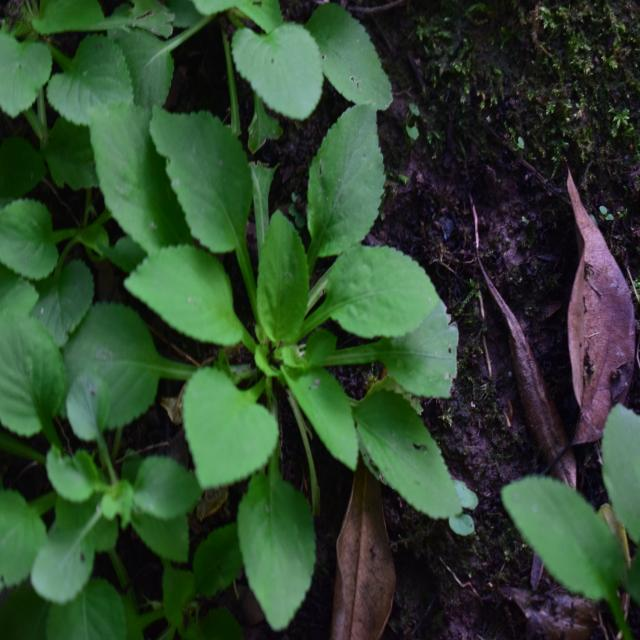Viola: (128, 132, 448, 557)
